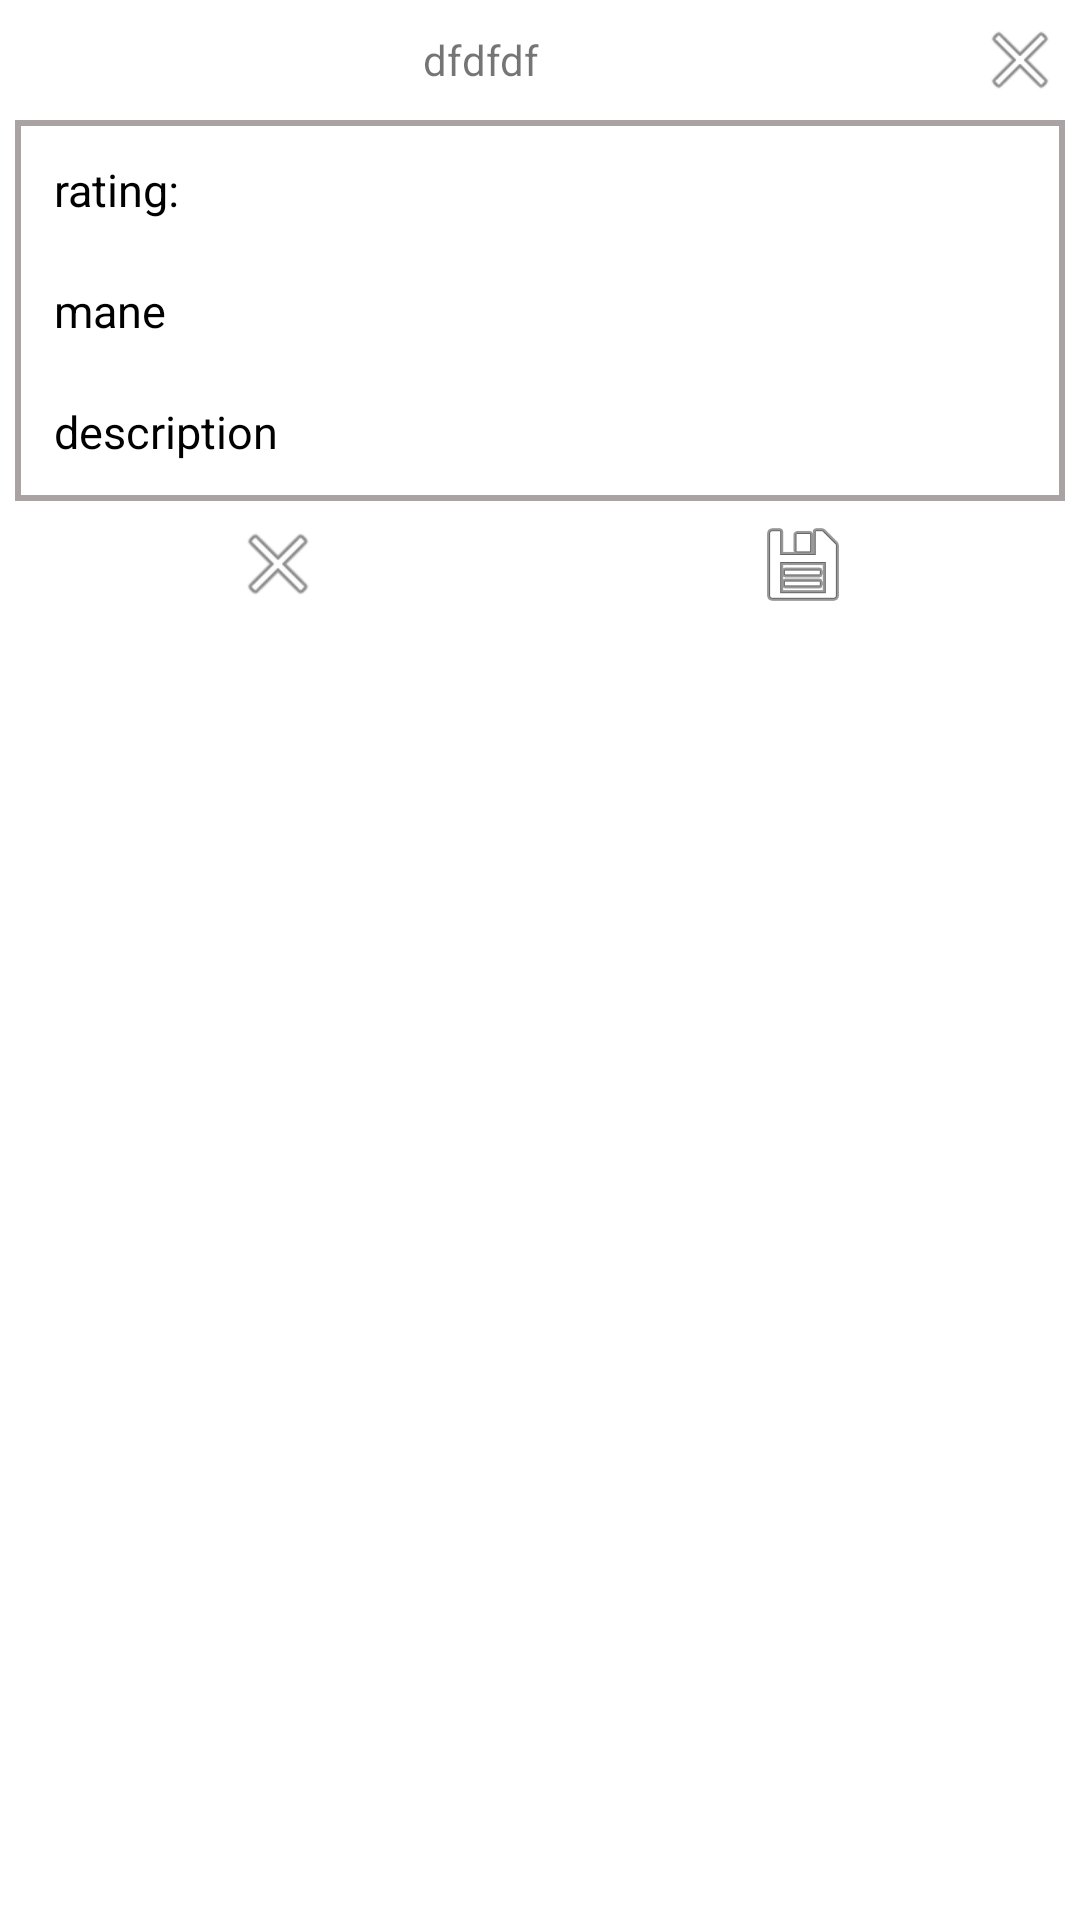

Locate icon controls on the screen. Image size 1080*1920, boxes as bbox(x1, y1, x2, y2).
close clear cancel: bbox(992, 32, 1048, 88), bbox(248, 534, 308, 594)
save: bbox(767, 528, 839, 601)
